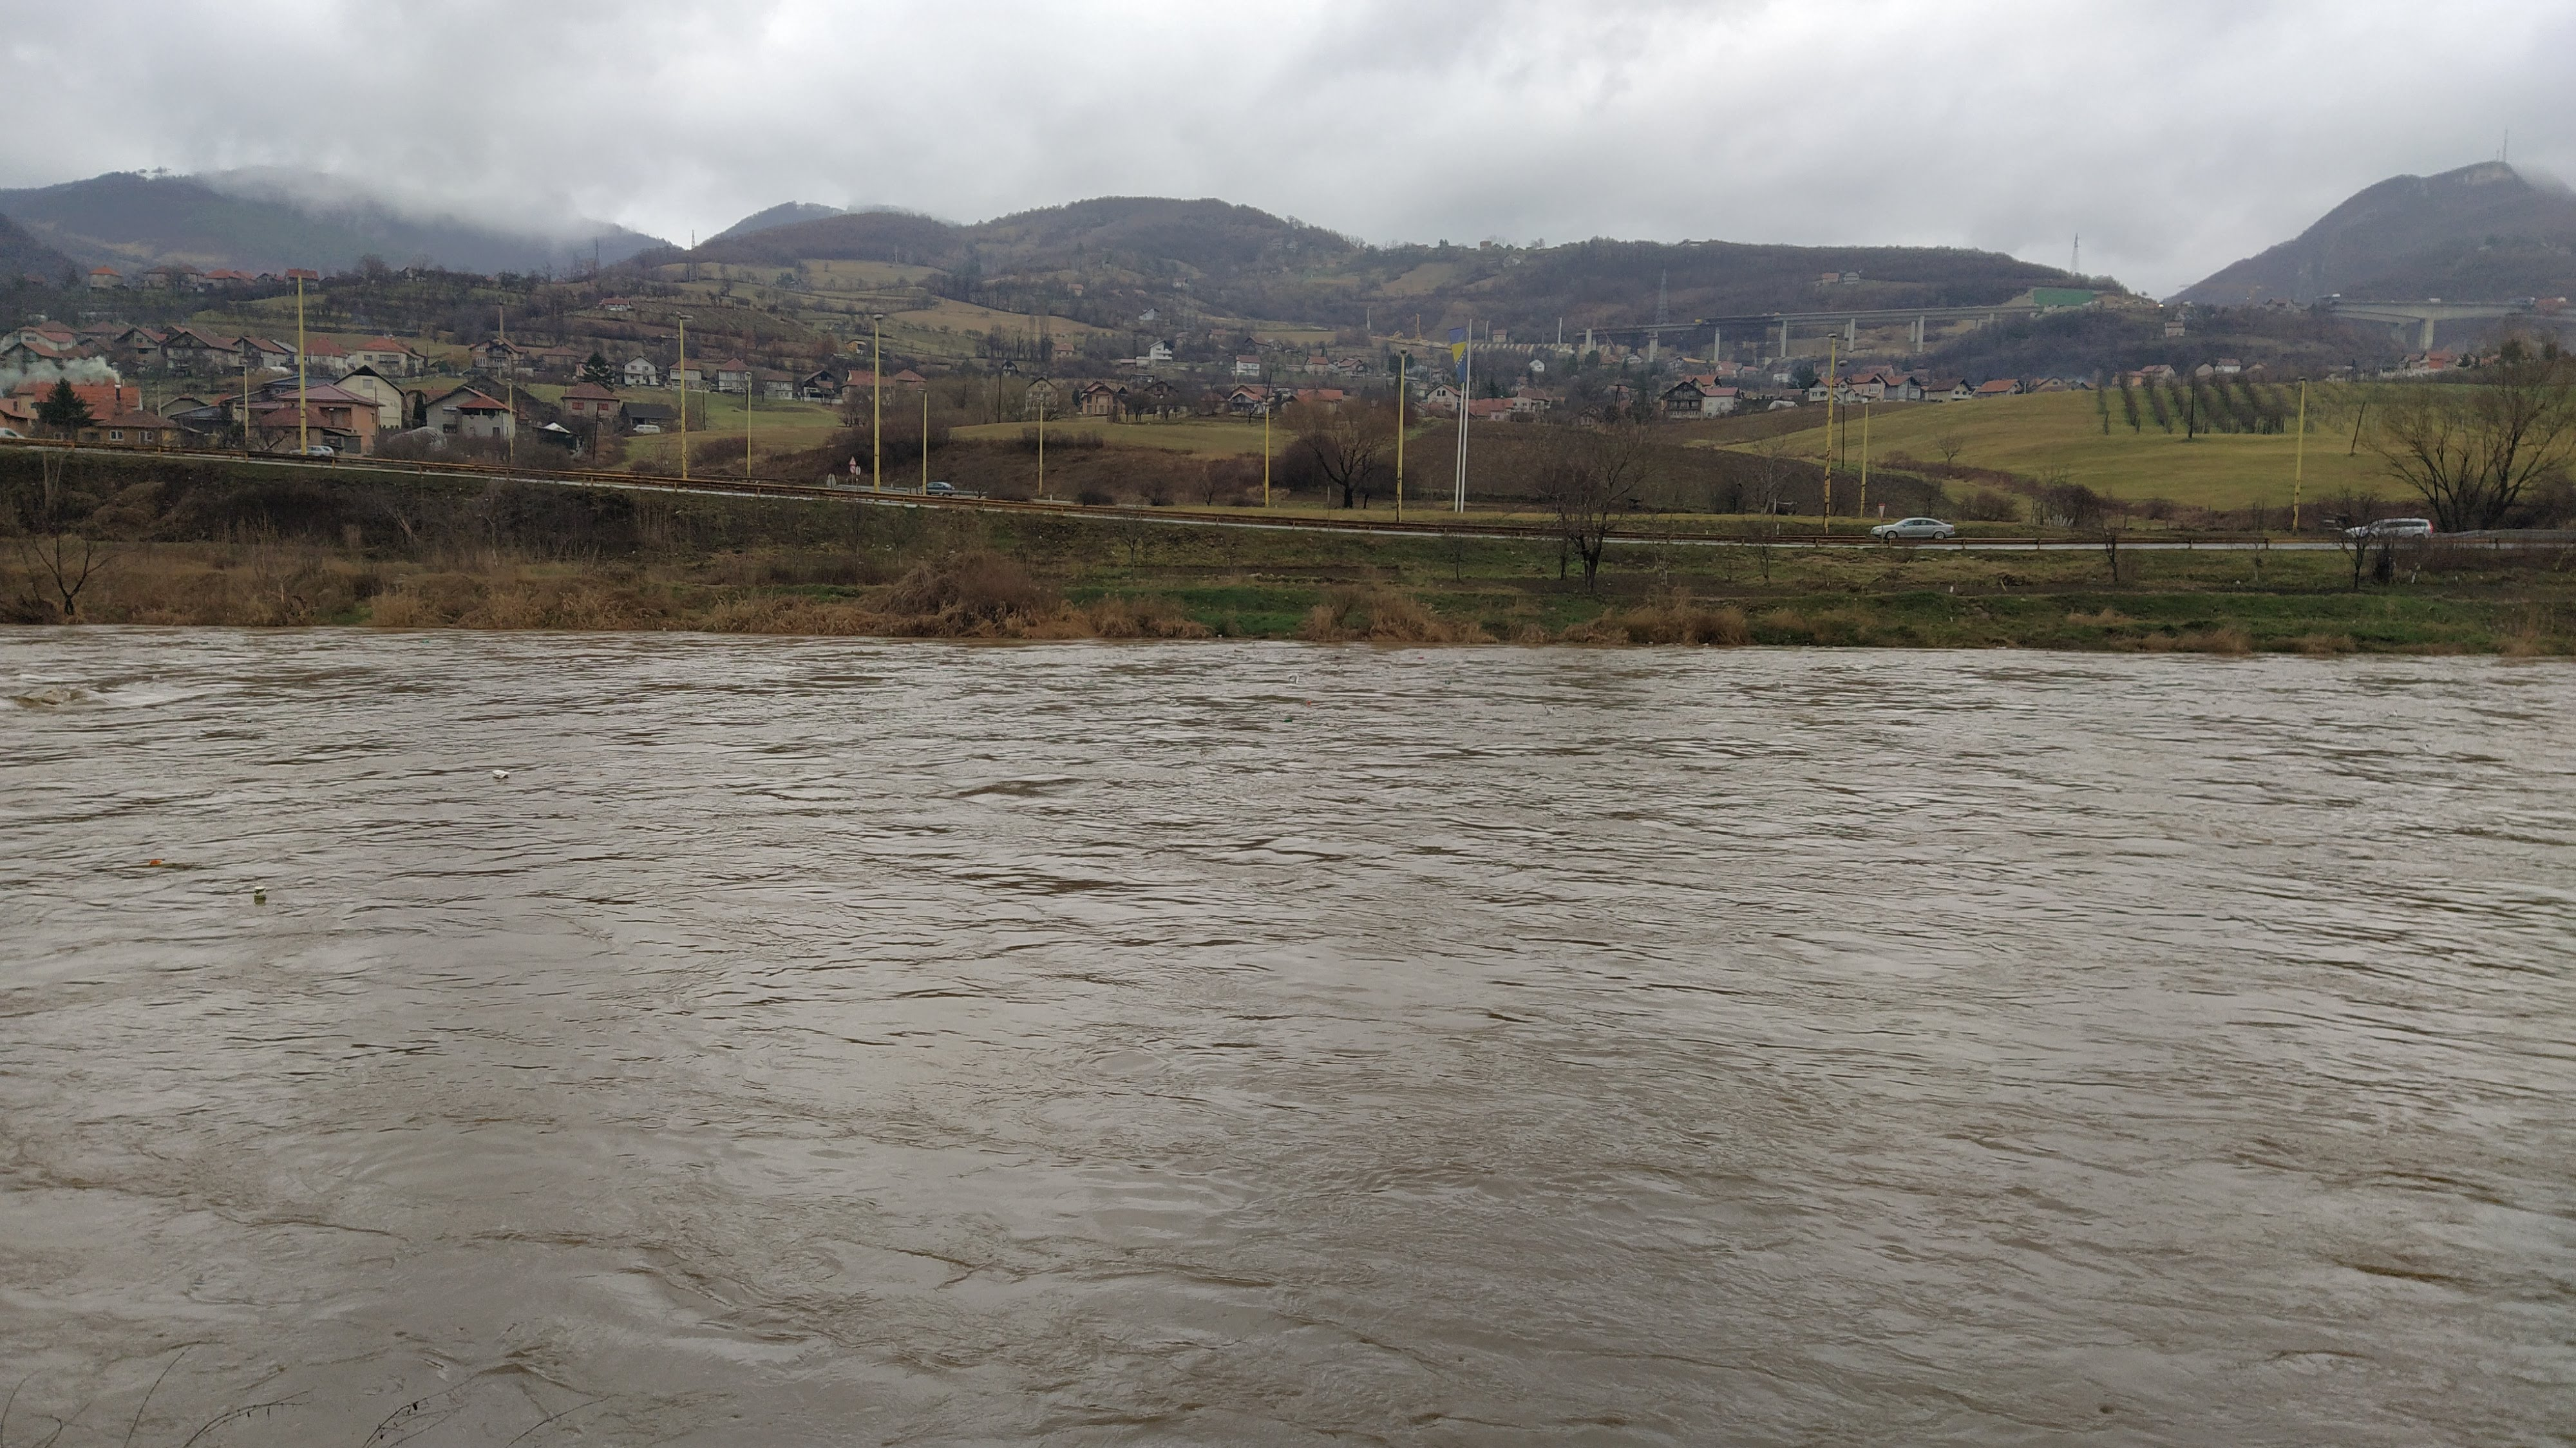Plastic Bottle: (253, 885, 267, 899), (492, 768, 508, 779), (150, 859, 163, 864), (1284, 719, 1293, 722), (1445, 680, 1451, 683), (202, 641, 207, 644), (421, 639, 428, 641), (1419, 655, 1422, 659)
